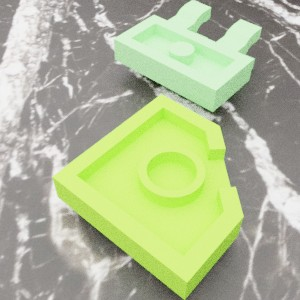lego: (52, 94, 243, 299), (113, 0, 261, 112)
